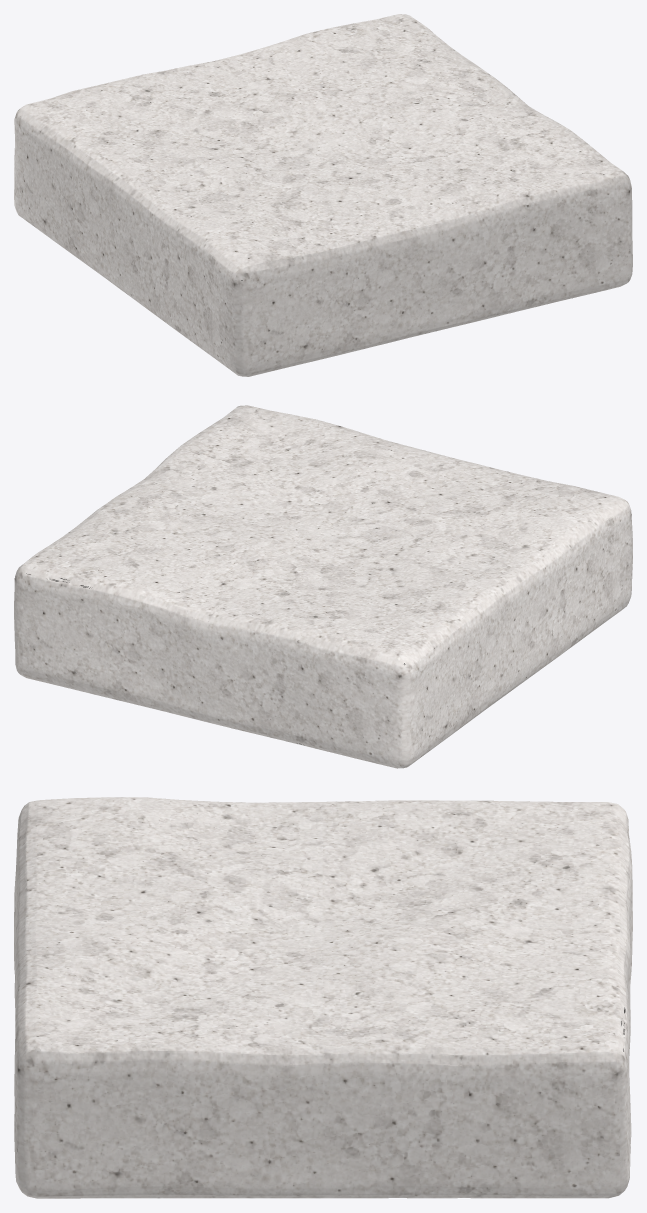
File: tak-flat-white.glb
3 views of the same model, one above another, from view 1: azimuth 30°, elevation 25°; view 2: azimuth 150°, elevation 25°; view 3: azimuth 270°, elevation 25° (orthographic). The views are drawn at different scales.
Visible parts, largest first — view 1: tak-flat-white; view 2: tak-flat-white; view 3: tak-flat-white.
Part boxes in pixels (box(x1,y1,x2,y2)): tak-flat-white: box(14, 14, 632, 376); tak-flat-white: box(14, 405, 632, 768); tak-flat-white: box(14, 797, 632, 1198).
Size of the model in its own units: 0.0283 by 0.0079 by 0.0283.
1 material, 1 textured.
